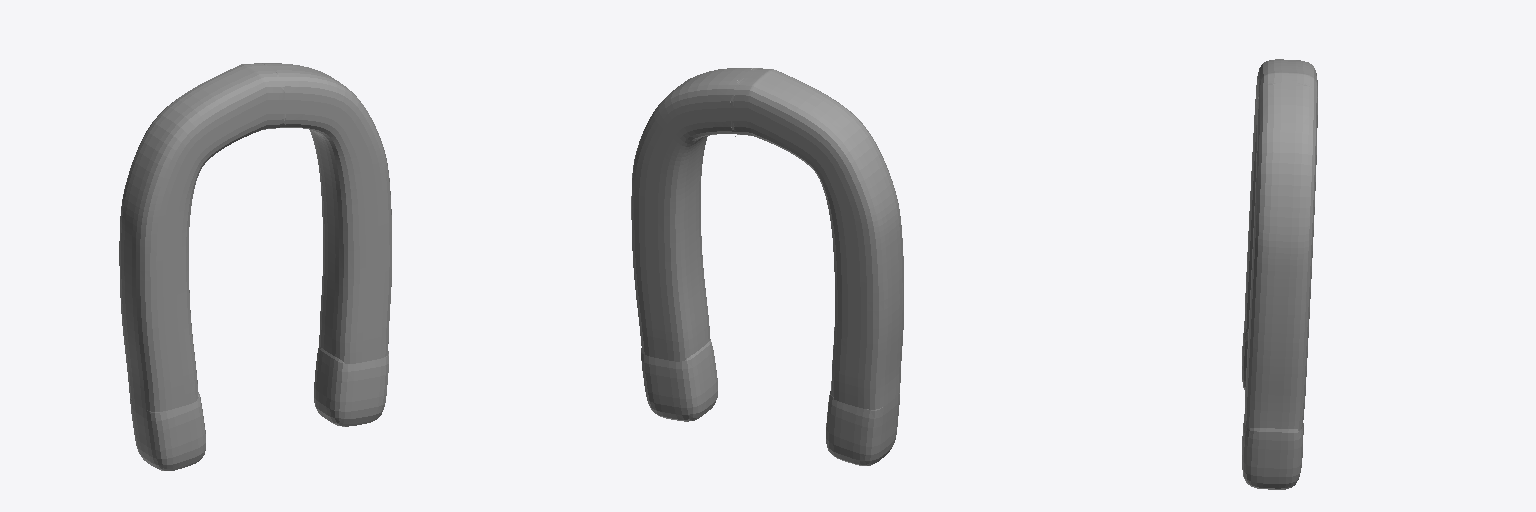
Rendered from Magnet.obj.
3 renders of one model, left to right at view 1: azimuth 30°, elevation 25°; view 2: azimuth 150°, elevation 25°; view 3: azimuth 270°, elevation 25°, orthographic.
Visible parts, largest first — view 1: mag, ns; view 2: mag, ns; view 3: mag, ns.
Part boxes in pixels (bbox=[...]): mag: bbox=[119, 63, 391, 411]; ns: bbox=[130, 346, 388, 470]; mag: bbox=[631, 68, 903, 409]; ns: bbox=[641, 340, 899, 465]; mag: bbox=[1244, 59, 1317, 430]; ns: bbox=[1242, 328, 1303, 489].
Size of the model in its own units: 4.57 by 6.28 by 1.19.